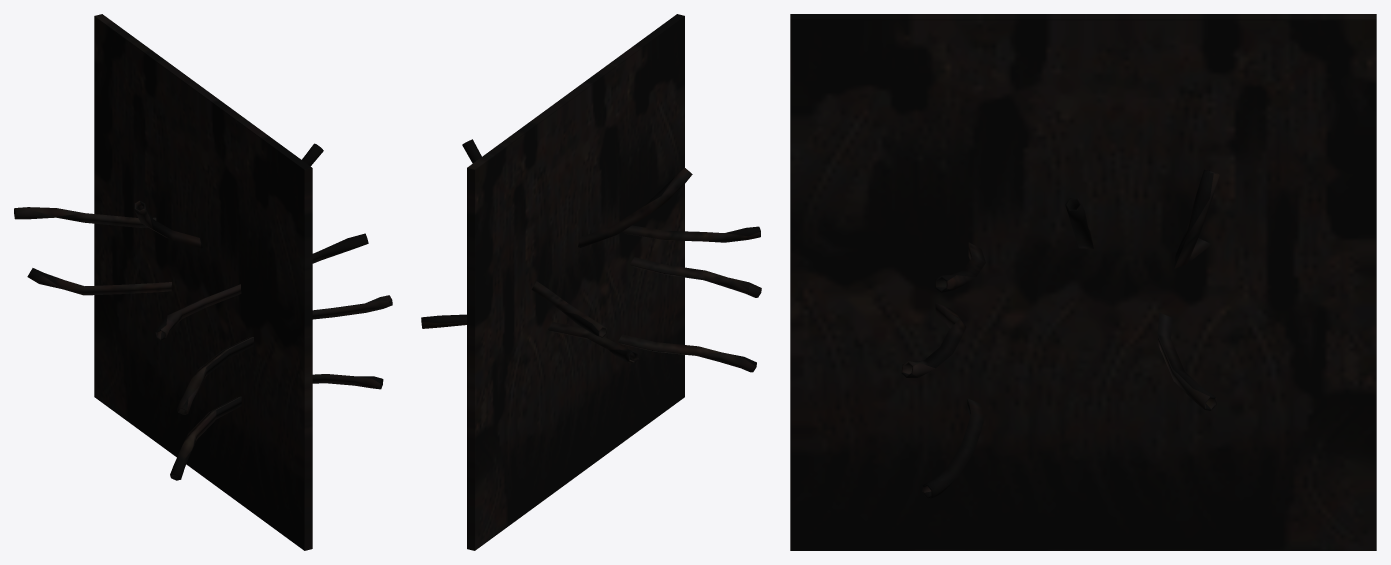
Rendered from metal pipes 1.fbx.
The picture shows the model from 3 angles, left to right: view 1: azimuth 30°, elevation 25°; view 2: azimuth 150°, elevation 25°; view 3: azimuth 270°, elevation 25°; orthographic projection. The views are drawn at different scales.
Visible parts, largest first — view 1: Plane.001, BezierCurve.001; view 2: Plane.001, BezierCurve.001; view 3: Plane.001, BezierCurve.001.
Boxes of the visible parts, x1=… form: Plane.001: x1=94, y1=14, x2=312, y2=550; BezierCurve.001: x1=14, y1=143, x2=392, y2=480; Plane.001: x1=467, y1=14, x2=684, y2=550; BezierCurve.001: x1=421, y1=139, x2=761, y2=372; Plane.001: x1=790, y1=14, x2=1376, y2=550; BezierCurve.001: x1=901, y1=169, x2=1219, y2=499.
Size of the model in its own units: 186 by 274 by 274.
1 material, 1 textured.
